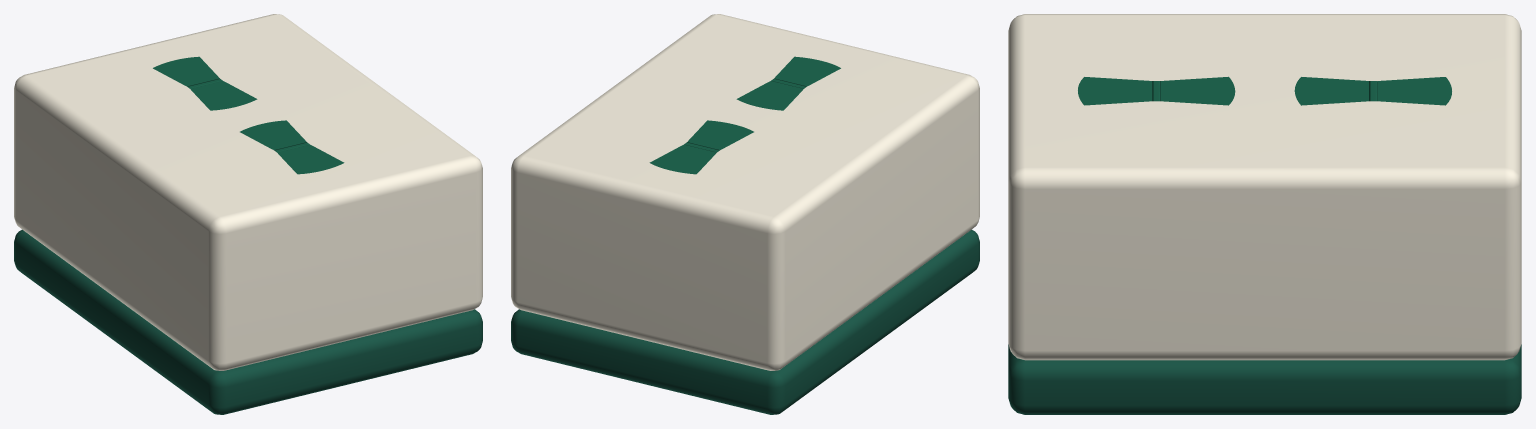
The model's file is suo-02.glb.
3 views of the same model, side by side, from view 1: azimuth 30°, elevation 25°; view 2: azimuth 150°, elevation 25°; view 3: azimuth 270°, elevation 25° (orthographic). The views are drawn at different scales.
Visible parts, largest first — view 1: suo-02_ivory, suo-02_back, suo-02_face_inlays; view 2: suo-02_ivory, suo-02_back, suo-02_face_inlays; view 3: suo-02_ivory, suo-02_back, suo-02_face_inlays.
Boxes of the visible parts, x1,y1,x2,y2 form: suo-02_ivory: (14, 14, 482, 370); suo-02_back: (14, 229, 482, 414); suo-02_face_inlays: (153, 56, 344, 174); suo-02_ivory: (511, 14, 979, 370); suo-02_back: (511, 229, 979, 414); suo-02_face_inlays: (649, 56, 840, 174); suo-02_ivory: (1008, 14, 1521, 360); suo-02_back: (1008, 344, 1521, 414); suo-02_face_inlays: (1078, 76, 1451, 105).
Bounding box in the file's own units: 0.026 × 0.018 × 0.034.
